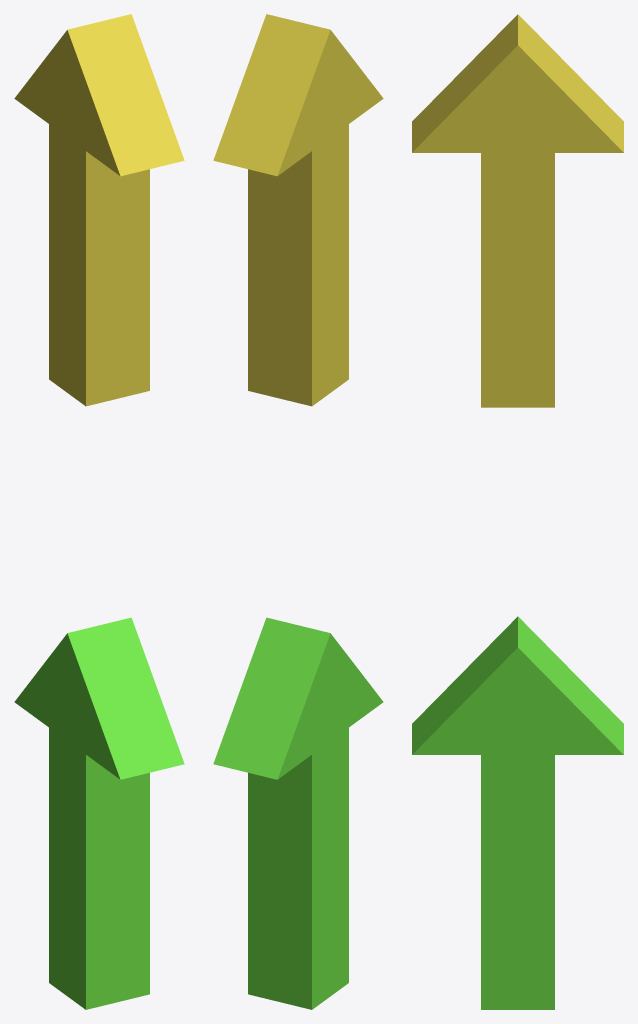
File: arrow_rotated.glb
The picture shows the model from 3 angles, left to right: view 1: azimuth 30°, elevation 25°; view 2: azimuth 150°, elevation 25°; view 3: azimuth 270°, elevation 25°; orthographic projection.
Visible parts, largest first — view 1: ArrowRotated, ArrowStraight; view 2: ArrowRotated, ArrowStraight; view 3: ArrowRotated, ArrowStraight.
Part boxes in pixels (left/top/right/bottom): ArrowRotated: left=14, top=14, right=184, bottom=406; ArrowStraight: left=14, top=617, right=184, bottom=1009; ArrowRotated: left=213, top=14, right=383, bottom=406; ArrowStraight: left=213, top=617, right=383, bottom=1009; ArrowRotated: left=412, top=14, right=623, bottom=407; ArrowStraight: left=412, top=616, right=623, bottom=1009.
Size of what is drawn, in the model's own units: 2 by 28.79 by 5.73.
